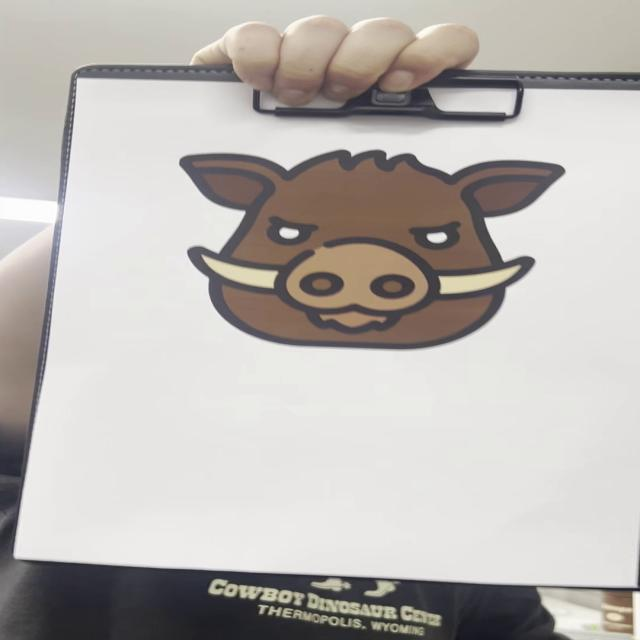animal: (177, 145, 558, 352)
